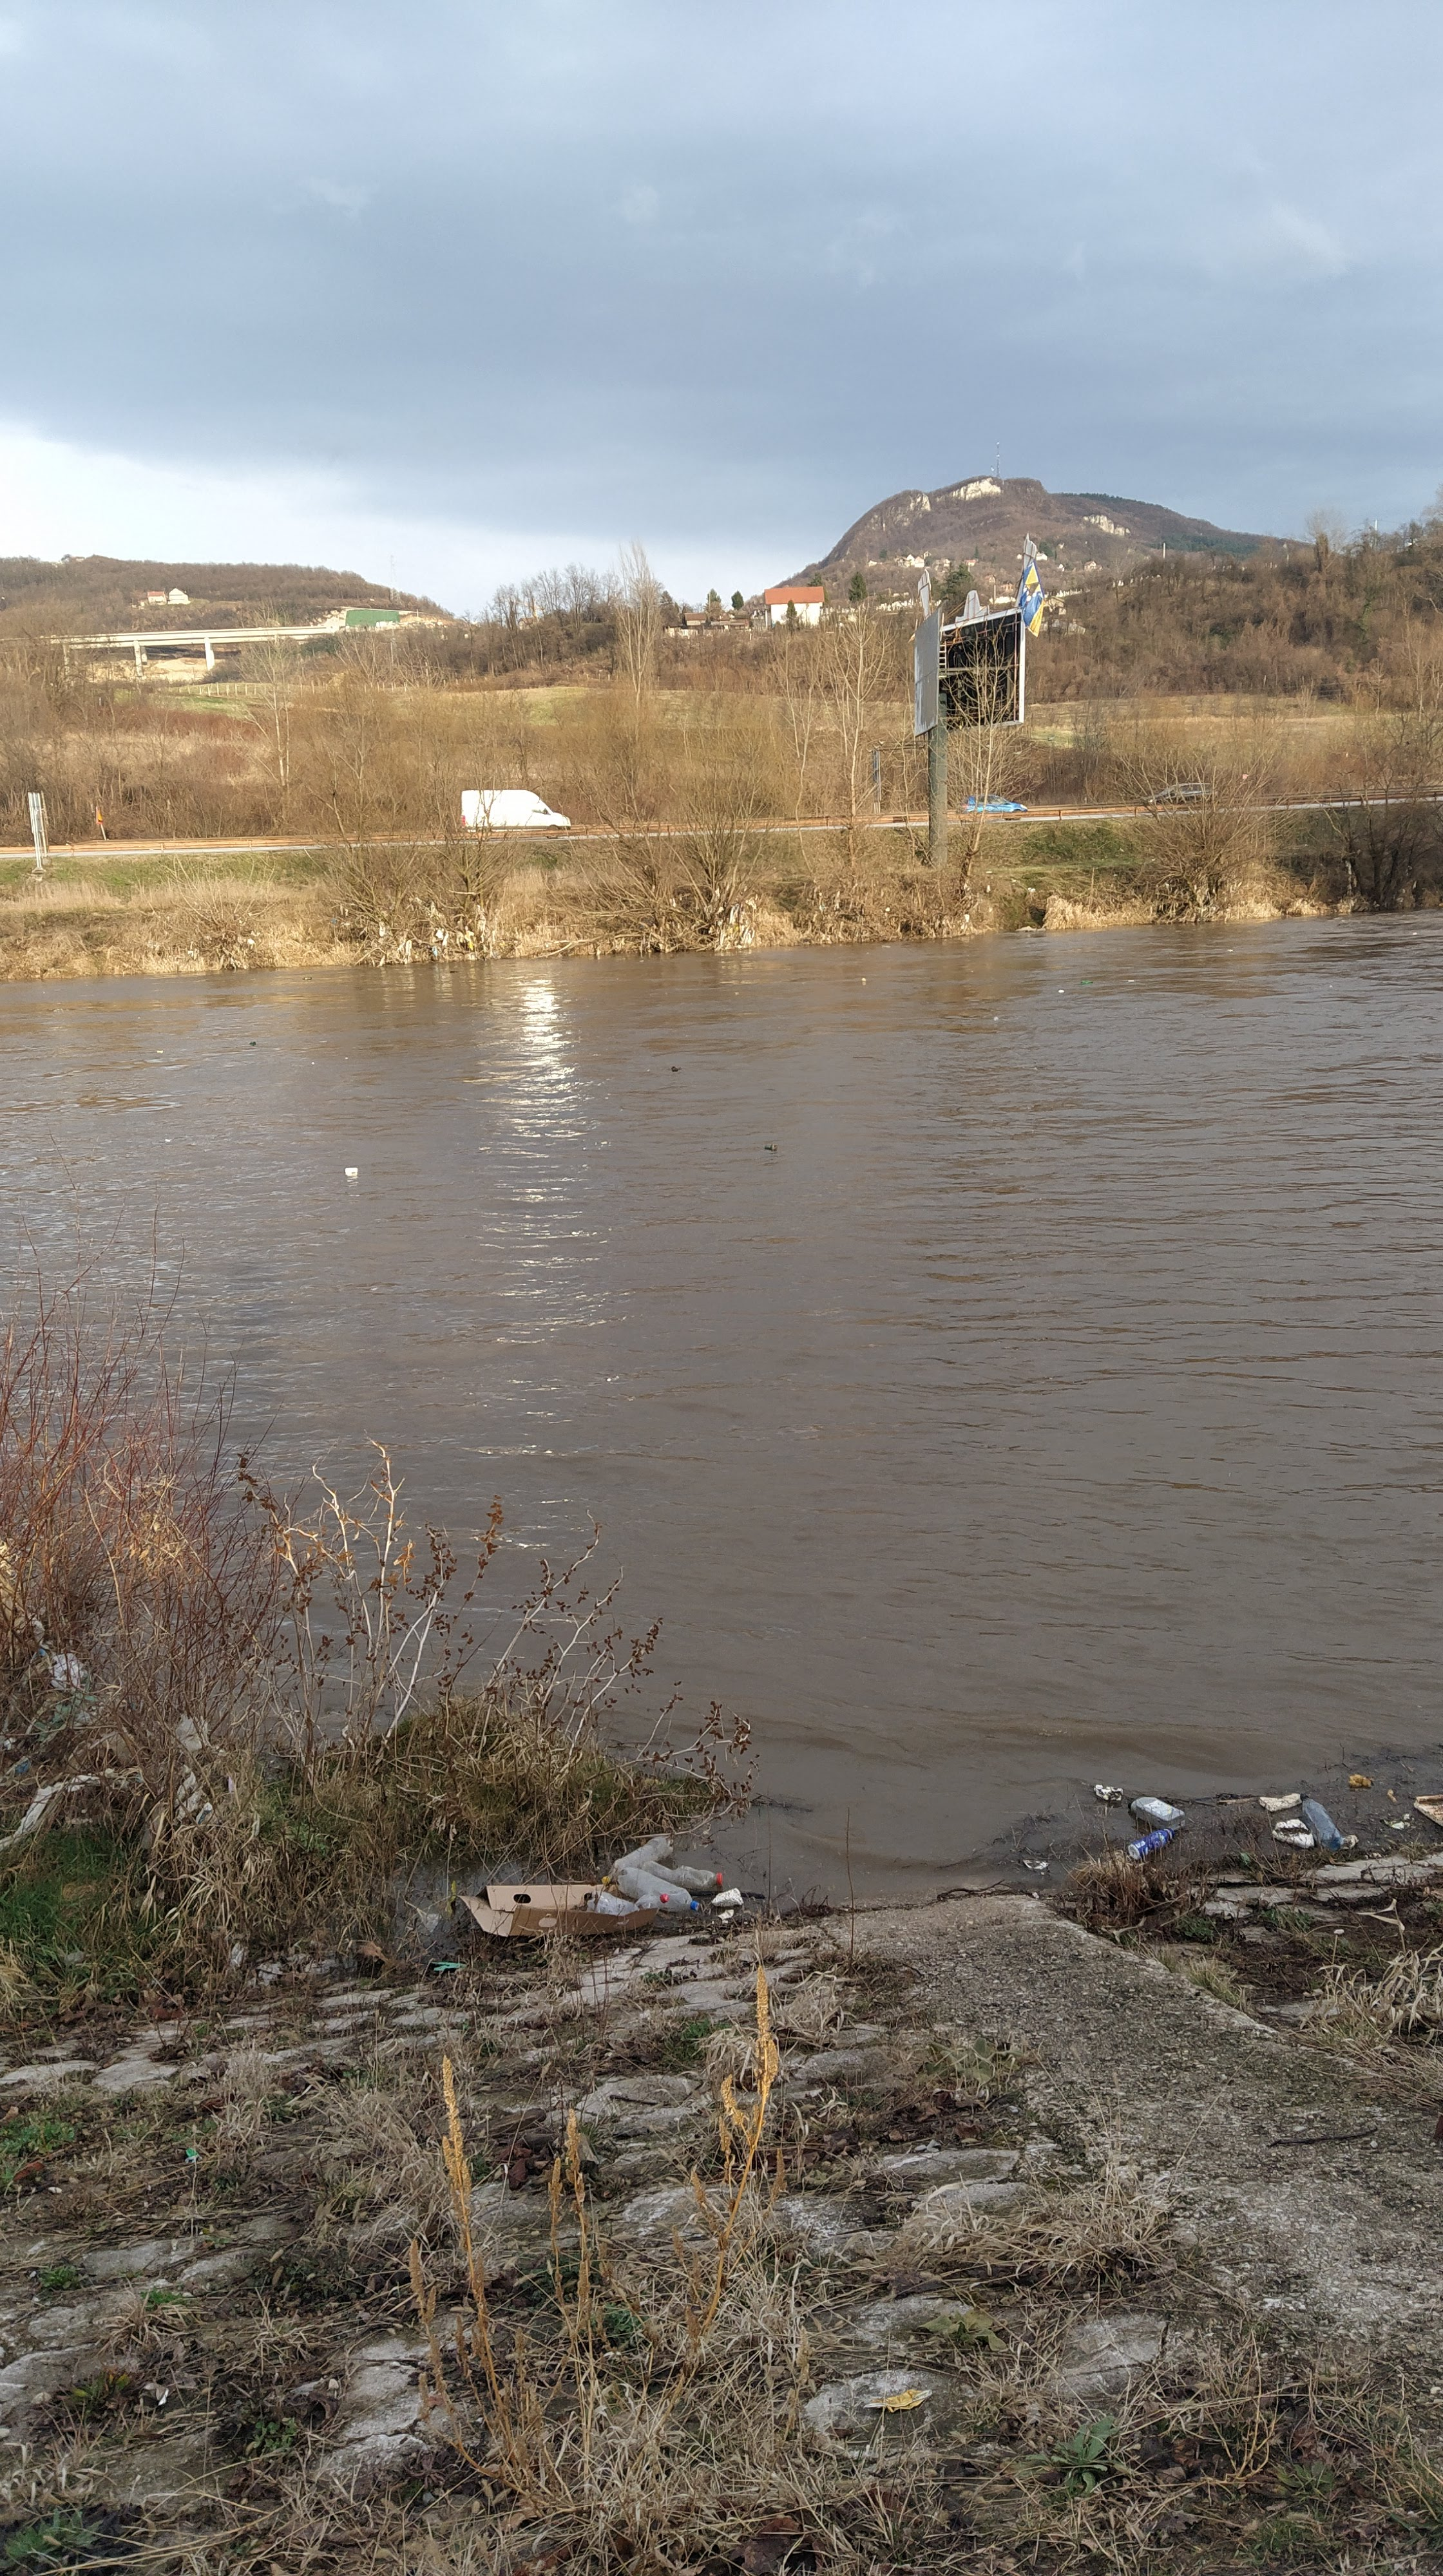Plastic Bottle: (602, 1835, 675, 1882), (618, 1868, 699, 1909), (1301, 1794, 1344, 1851), (641, 1861, 722, 1890), (1128, 1796, 1184, 1831), (586, 1891, 669, 1914), (1128, 1828, 1174, 1859), (343, 1168, 358, 1173), (303, 975, 312, 980), (765, 1143, 774, 1148), (671, 1065, 678, 1070), (1082, 980, 1091, 984), (882, 945, 889, 948), (993, 1016, 999, 1019), (251, 1042, 255, 1044)
